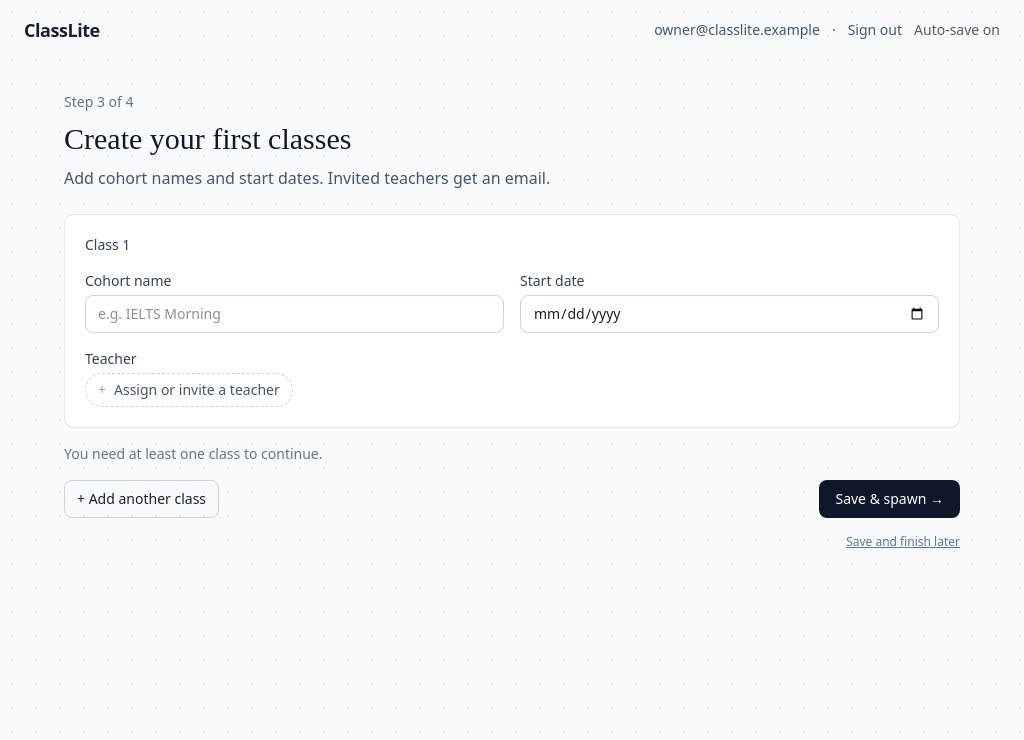
Test: AC5 — AssignChip composer (Sally-B1 single-panel invite-only) › composer container uses role="group" NOT role="dialog" (Sally-B4)
Expected: the heading "Create your first classes" is shown, [64,122,351,155]
Click the button "+ Assign or invite a teacher". click: [189, 390]
box: [85,372,293,406]
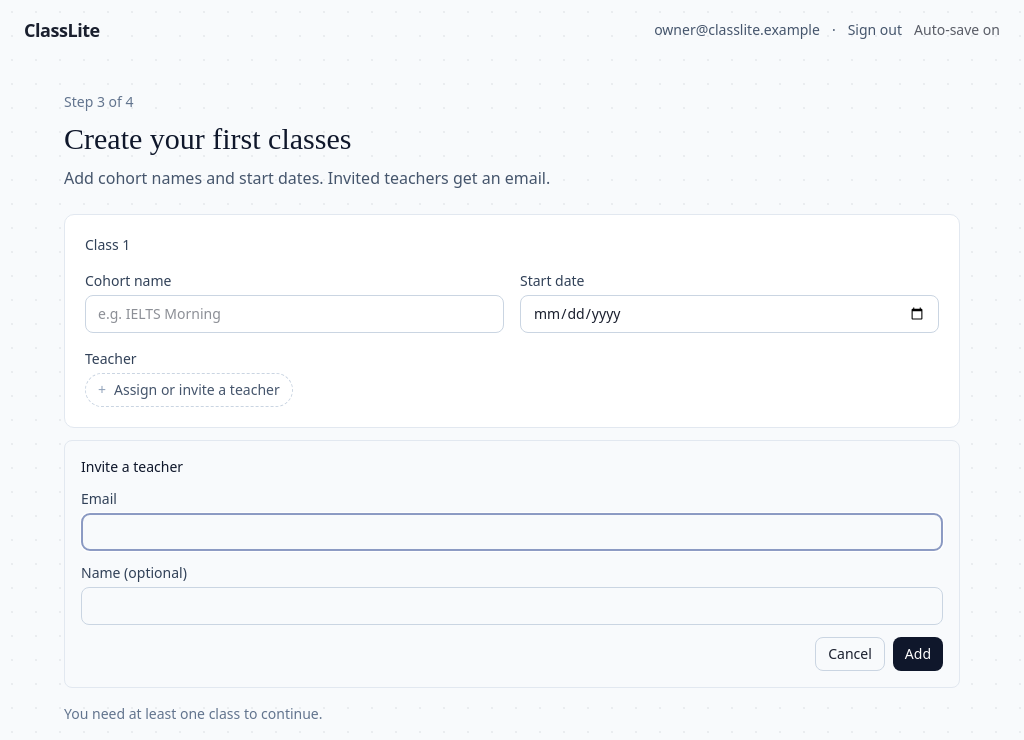
Now the element "Invite a teacher Email Name (optional) Cancel Add" is shown, box [64,440,960,688]
